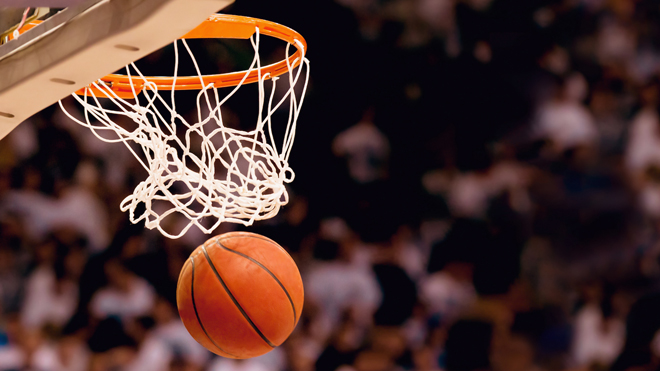basketball: (174, 232, 303, 360)
